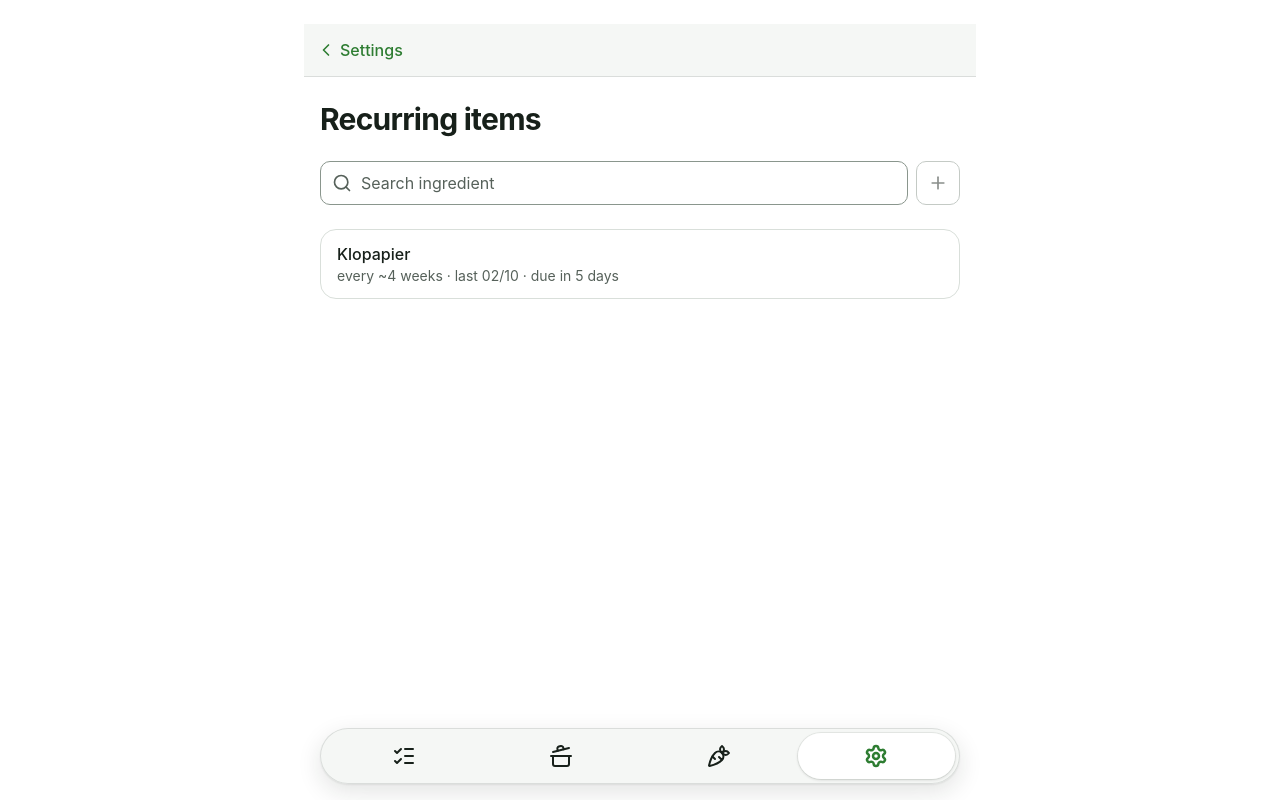
Test case: the recurring pop-up, editing (LIST-16, D-42) › removes the item with “No longer recurring” after asking
This screenshot has width=1280, height=800.
Step 1. Click the button "Klopapier every ~4 weeks · last 02/10 · due in 5 days" → (374, 254), box [321,230,959,298]
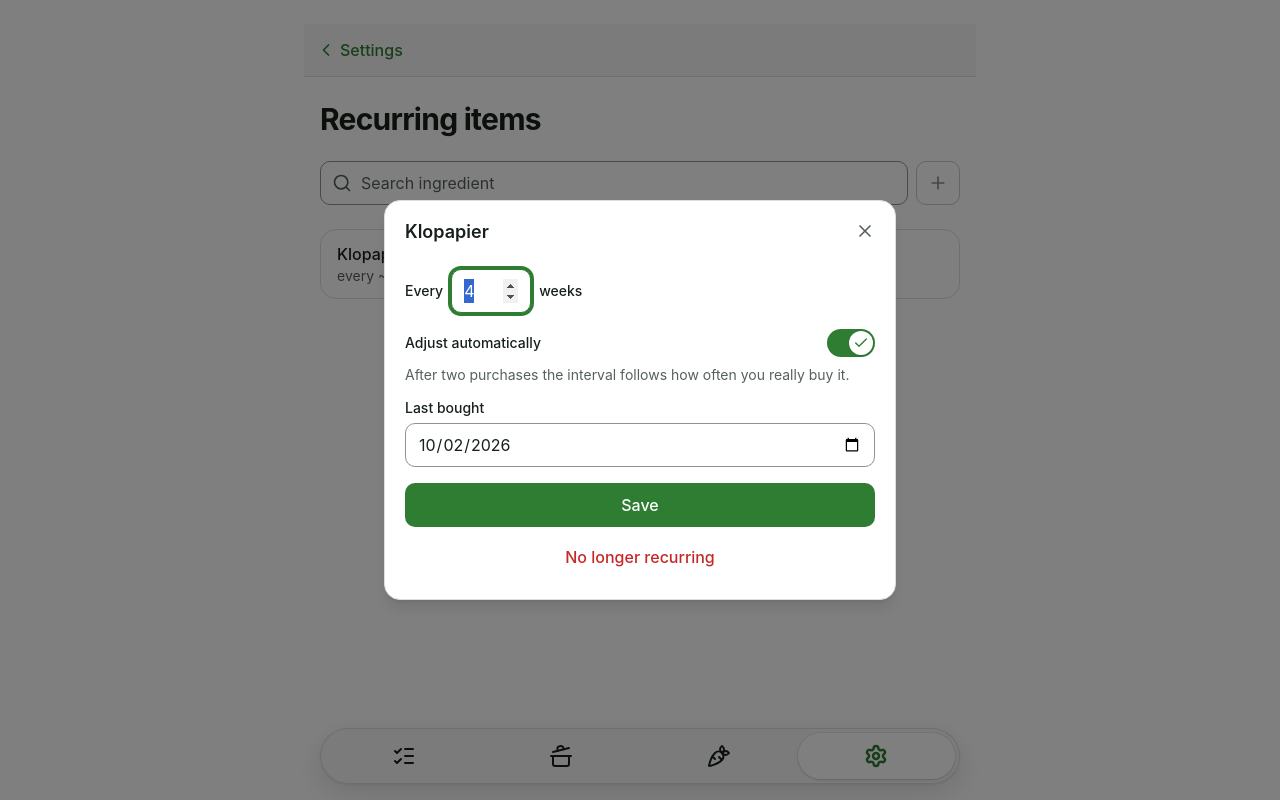
Step 2. Click the button with test id "recurring-remove" → (640, 557), box [405,535,875,579]
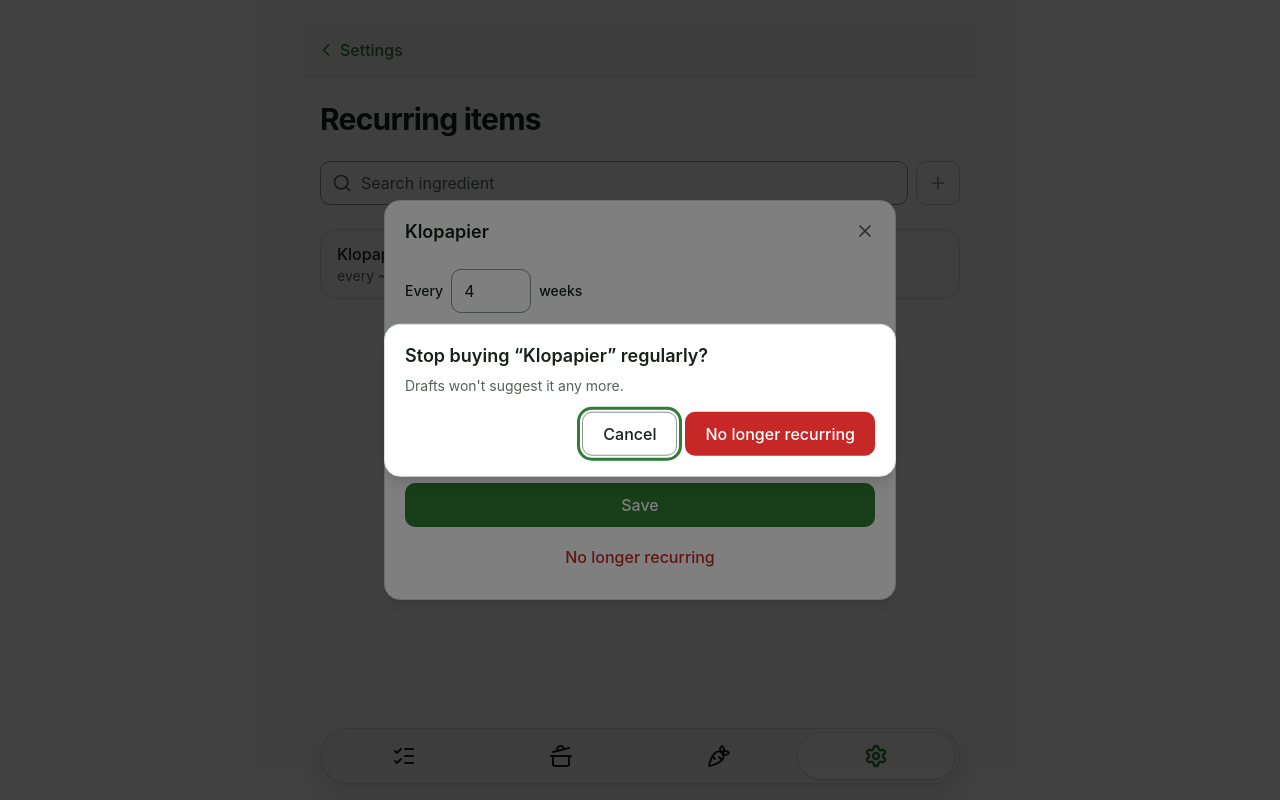
Step 3. Click the button "No longer recurring" → (780, 433), box [686,411,875,455]
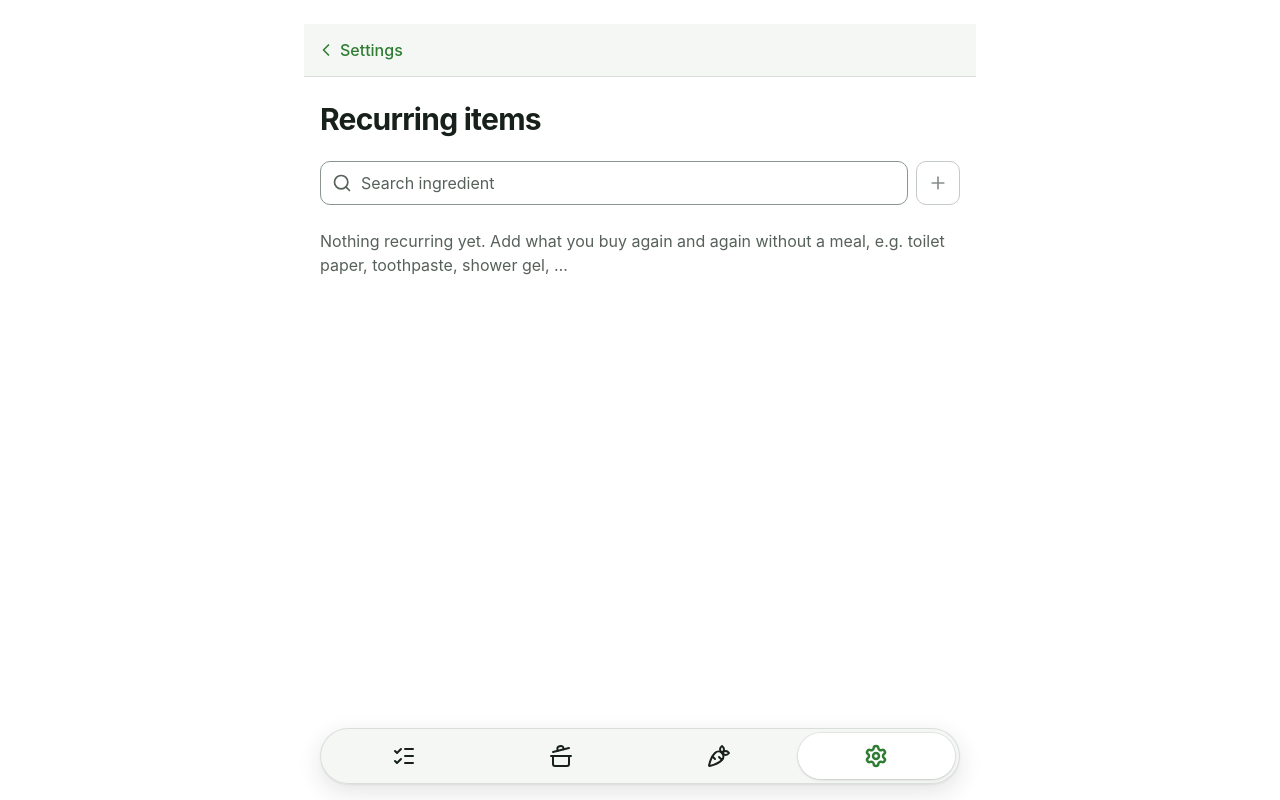
Check: the dialog is gone
Check: the text "toilet paper, toothpaste, shower gel, …" is shown, box [320,231,945,275]
